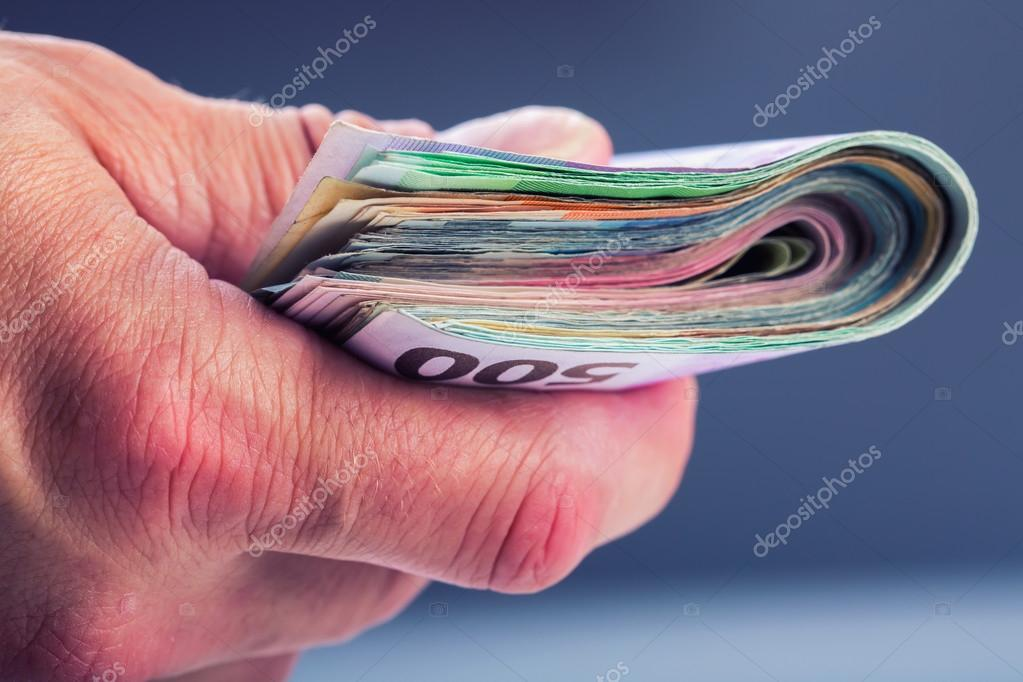billete: (238, 114, 985, 393)
